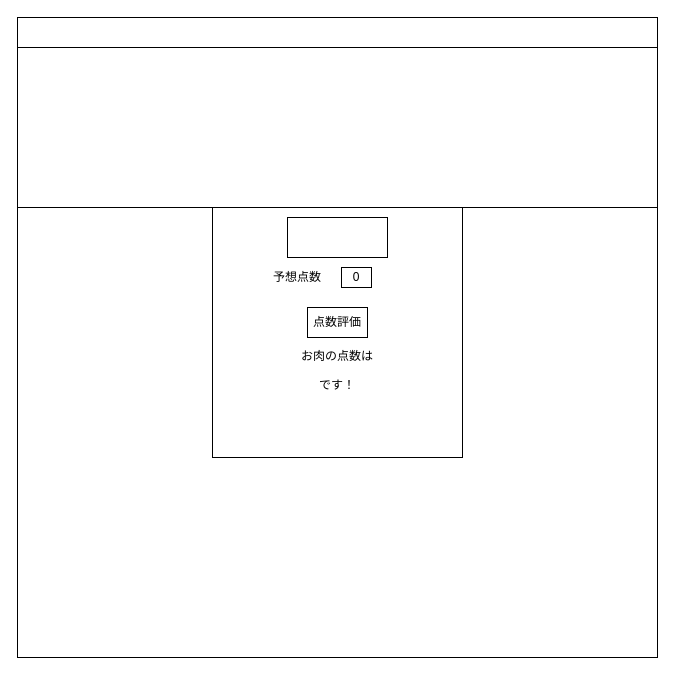
This 675x675 diagram has some shape labels left out. The shapes that lost their labels are listed below. From the top down, each one's box as (x1, y1, x2, y2) in pixels, then its label:
(16, 46, 658, 208): ホルモン
(286, 216, 388, 258): ファイルを開く
